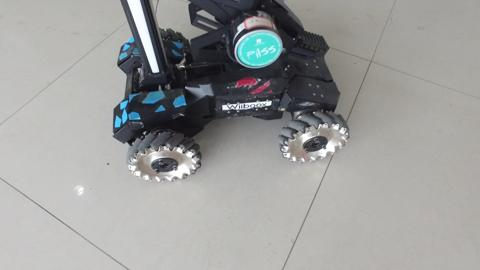chariot: (96, 5, 337, 176)
